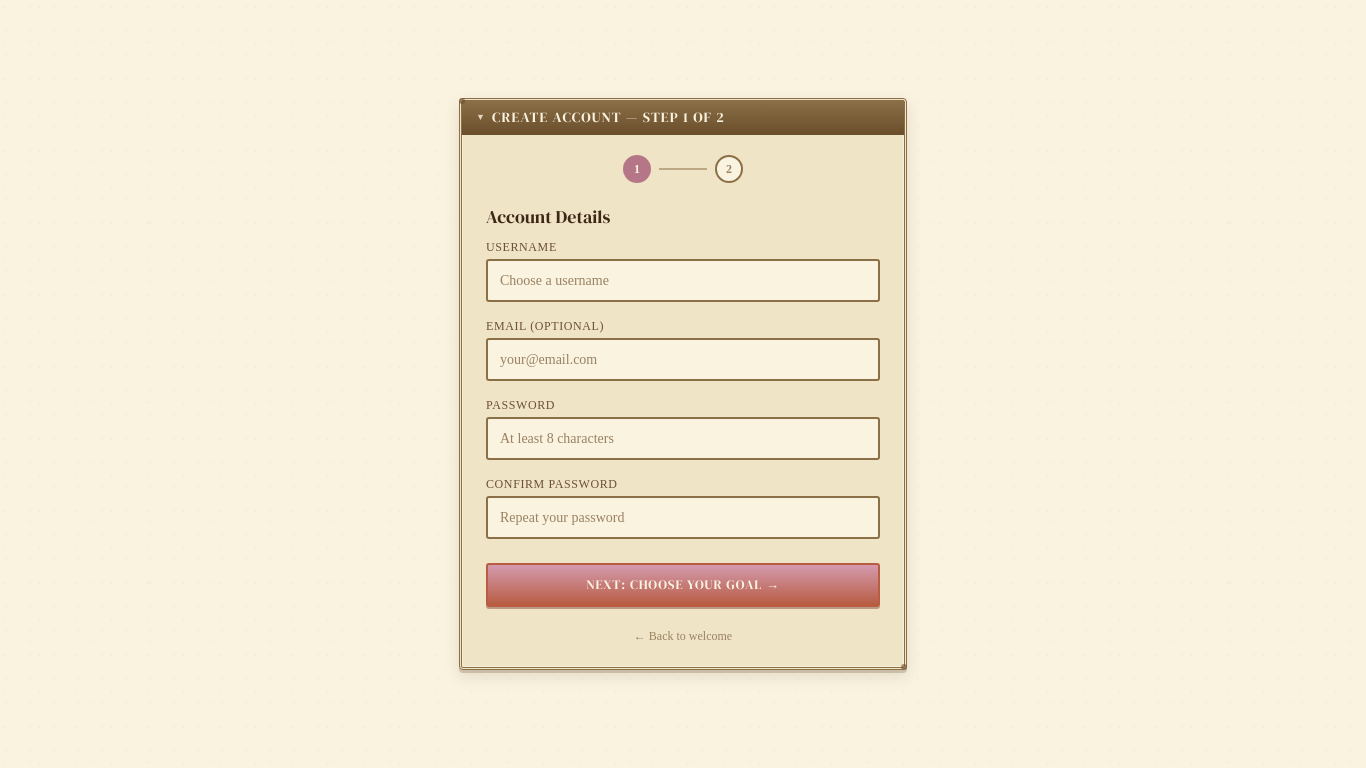
Test: RegisterPage — account details › refuses a password shorter than the minimum
Step 1. Type "elena" into the field with placeholder "Choose a username" → x=683, y=281, box [486,259,880,302]
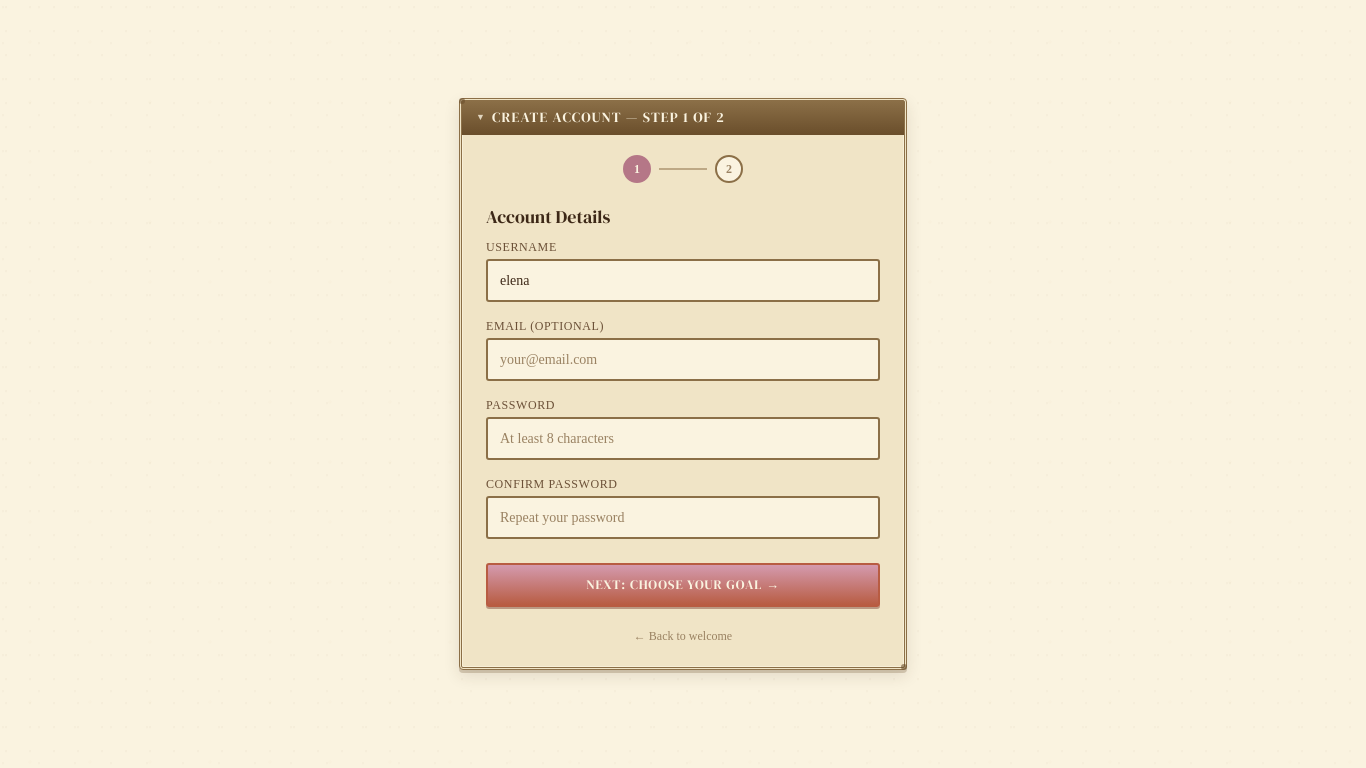
Step 2. Type "sevenCh" into the password field with placeholder "At least 8 characters" → x=683, y=439, box [486,417,880,460]
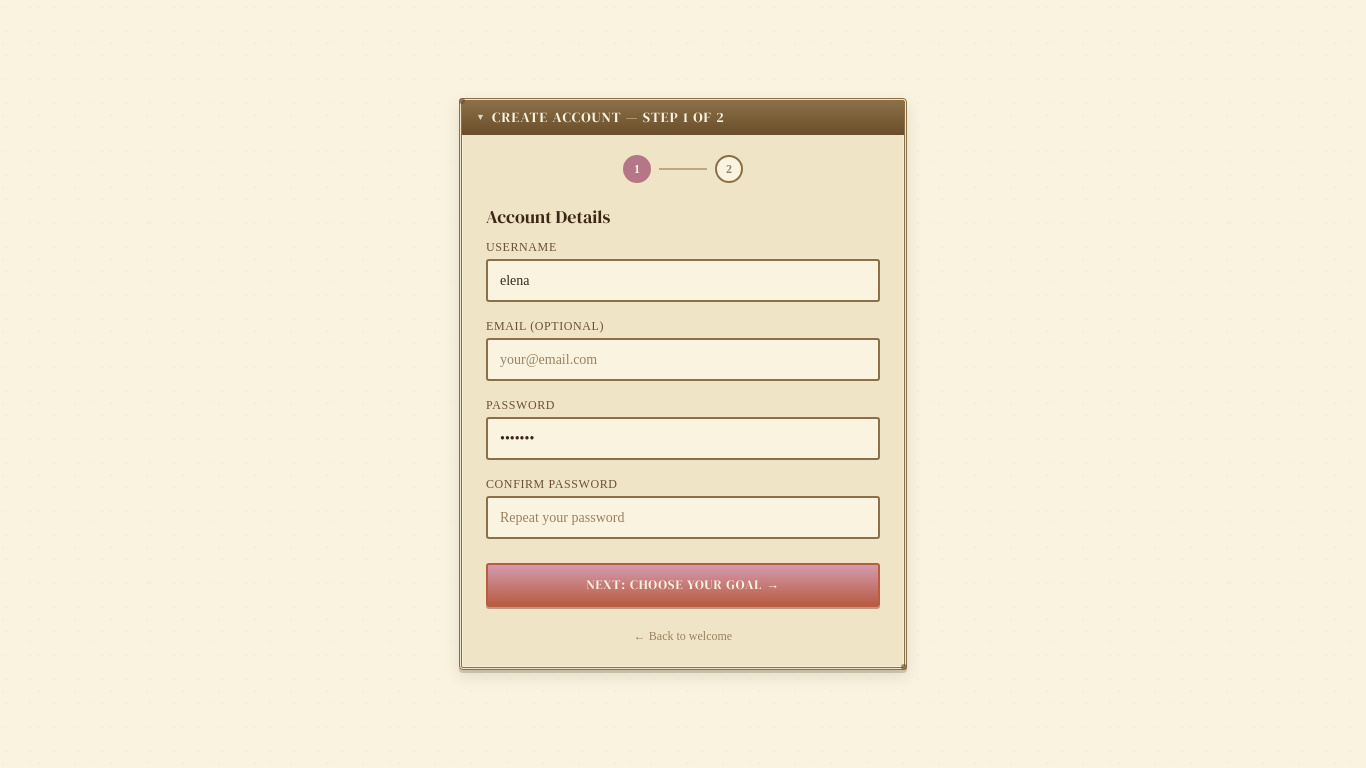
Step 3. Type "sevenCh" into the password field with placeholder "Repeat your password" → x=683, y=518, box [486,496,880,539]
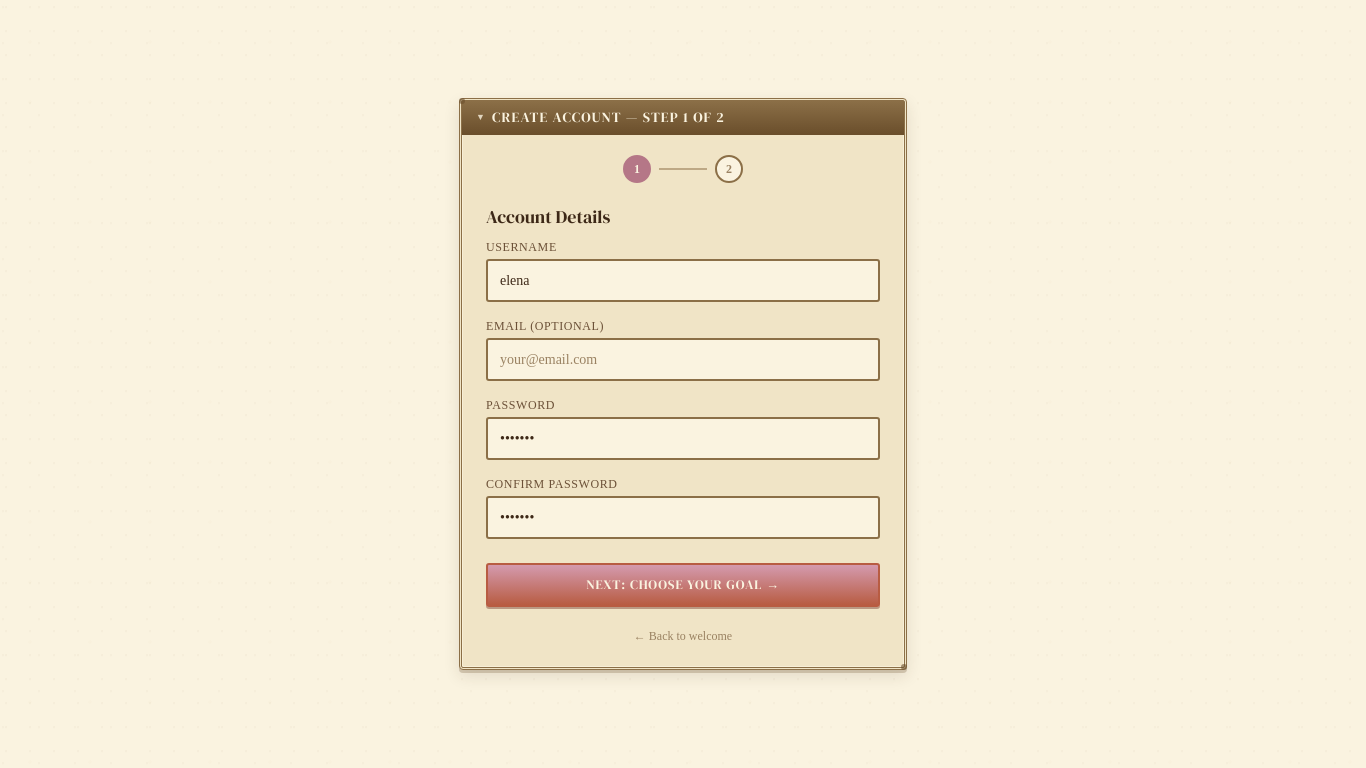
Step 4. Click the button "Next: Choose Your Goal →" → x=683, y=585, box [486,563,880,607]
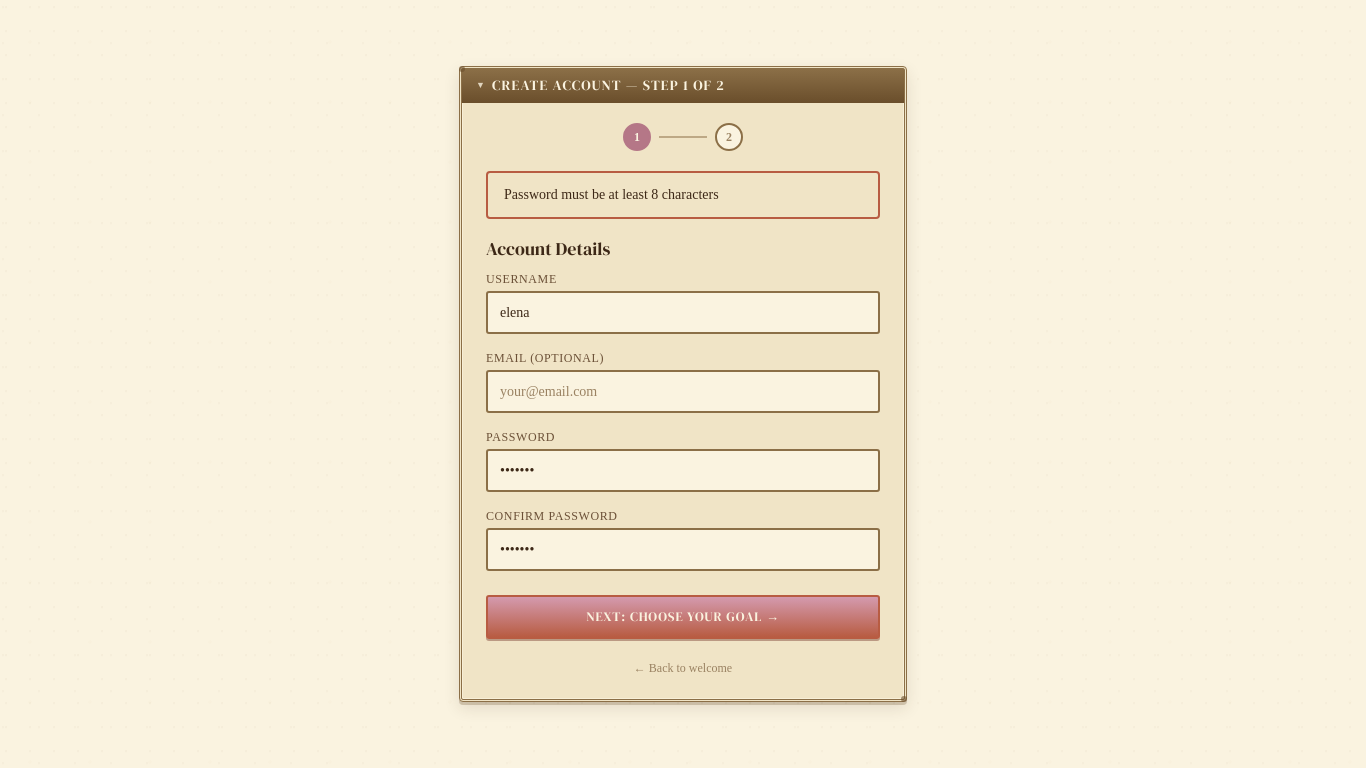
Check: the text "Create Account — Step 1 of 2" is shown, box [462,69,904,103]
Check: the text "Password must be at least 8 characters" is shown, box [486,171,880,219]
